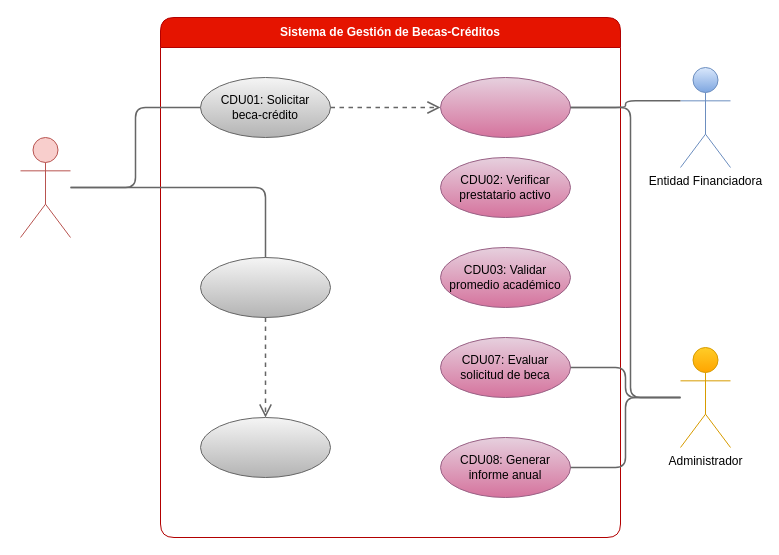
This 779x555 diagram has some shape labels left out. The shapes that lost their labels are listed below. From the top down, each one's box as (x1, y1, x2, y2) in pixels, then its label:
(440, 76, 570, 138): CDU04: Registrar aporte anual
(20, 136, 70, 238): Estudiante
(200, 256, 330, 318): CDU05: Registrar calificaciones
(200, 416, 330, 478): CDU06: Evaluar condonación o cobro
